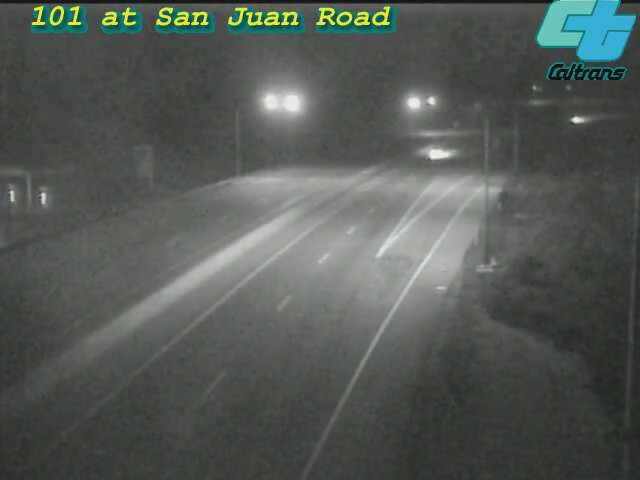vehicle: (559, 94, 609, 144), (415, 128, 465, 178)
